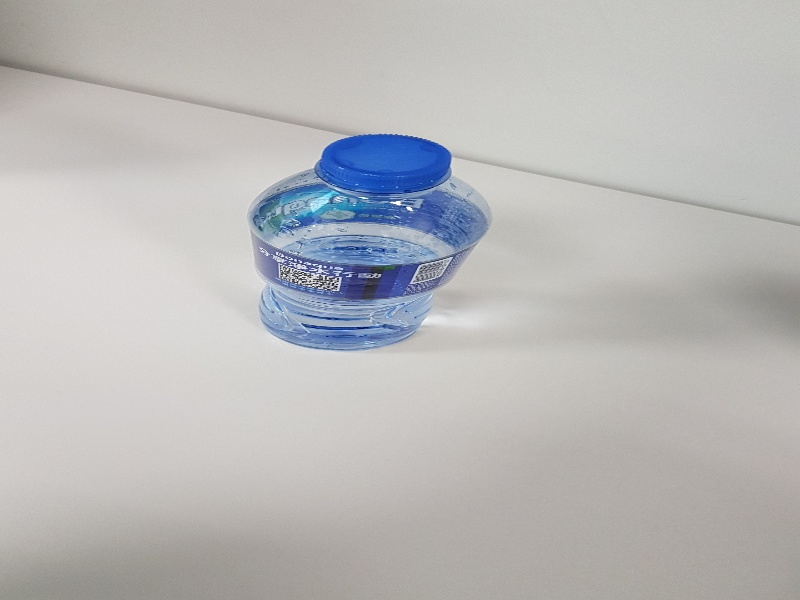Bottle: (247, 133, 494, 354)
